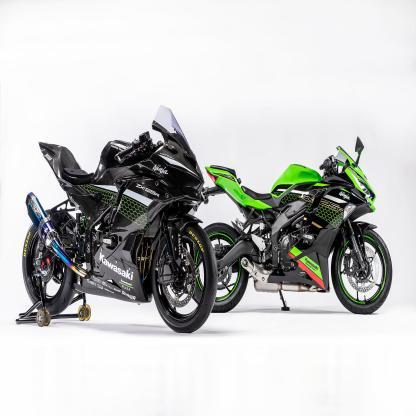Motorcycle: (16, 108, 217, 350), (206, 107, 396, 322)
